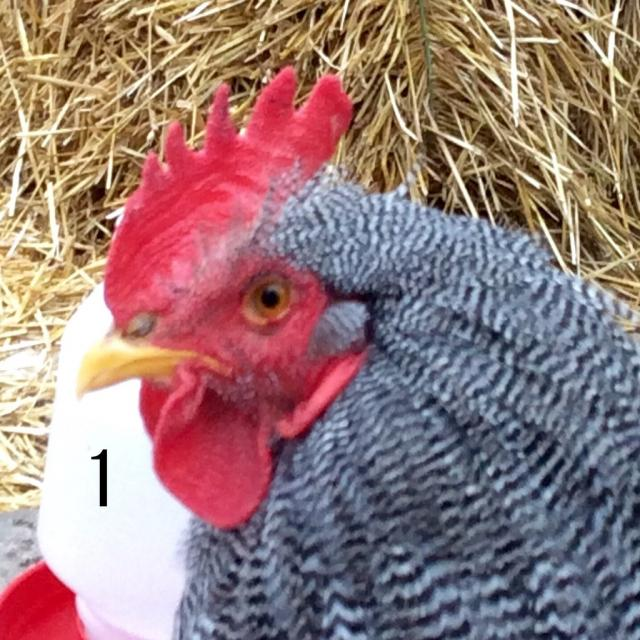Chicken: (68, 73, 640, 639)
